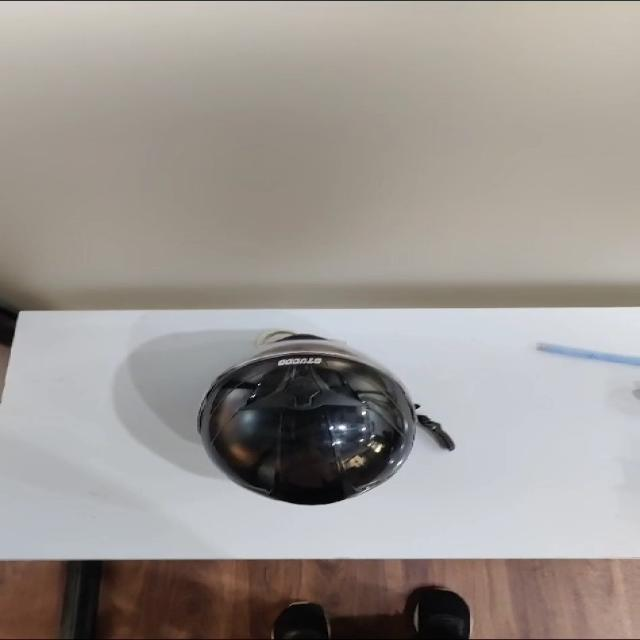helmet: (198, 332, 452, 504)
